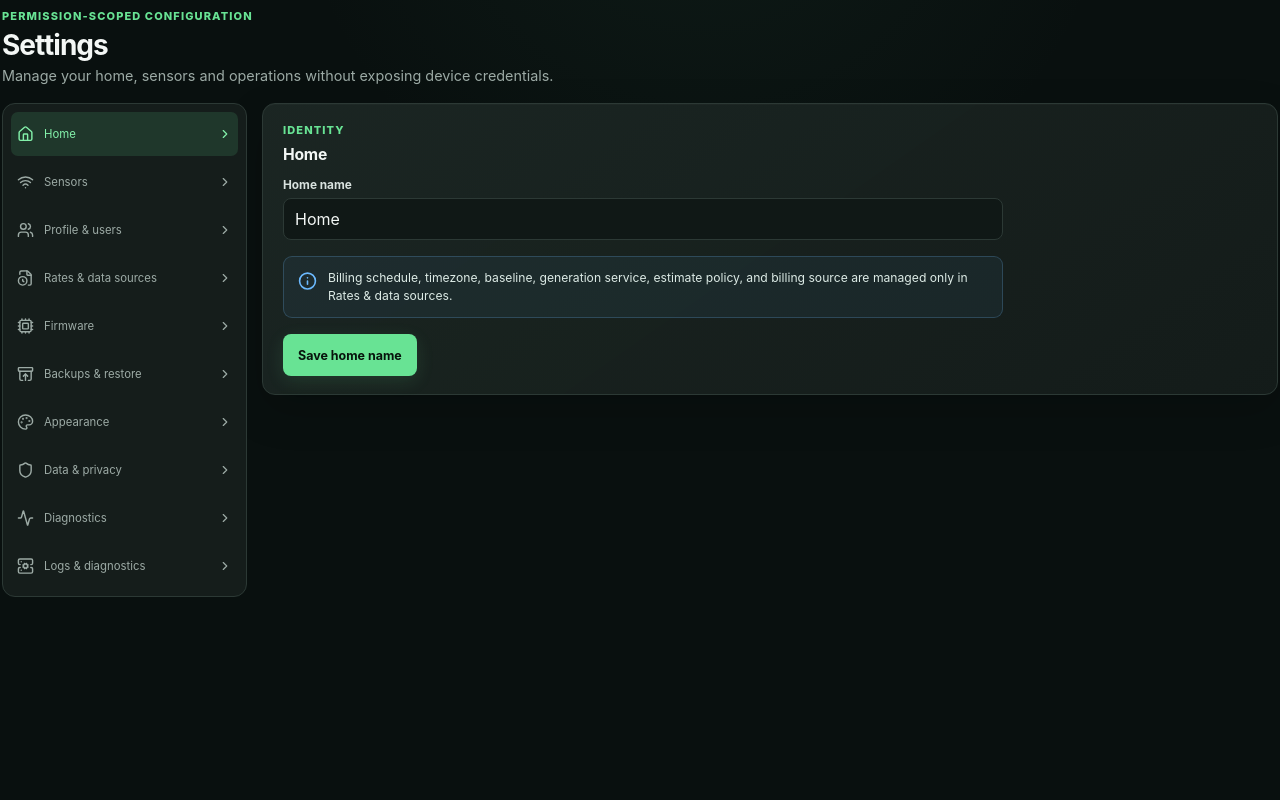
Scenario: Settings › enrolls the first sensor with the only authorized home scope
Click the button "Sensors": coordinates (124, 182) [11, 160, 238, 204]
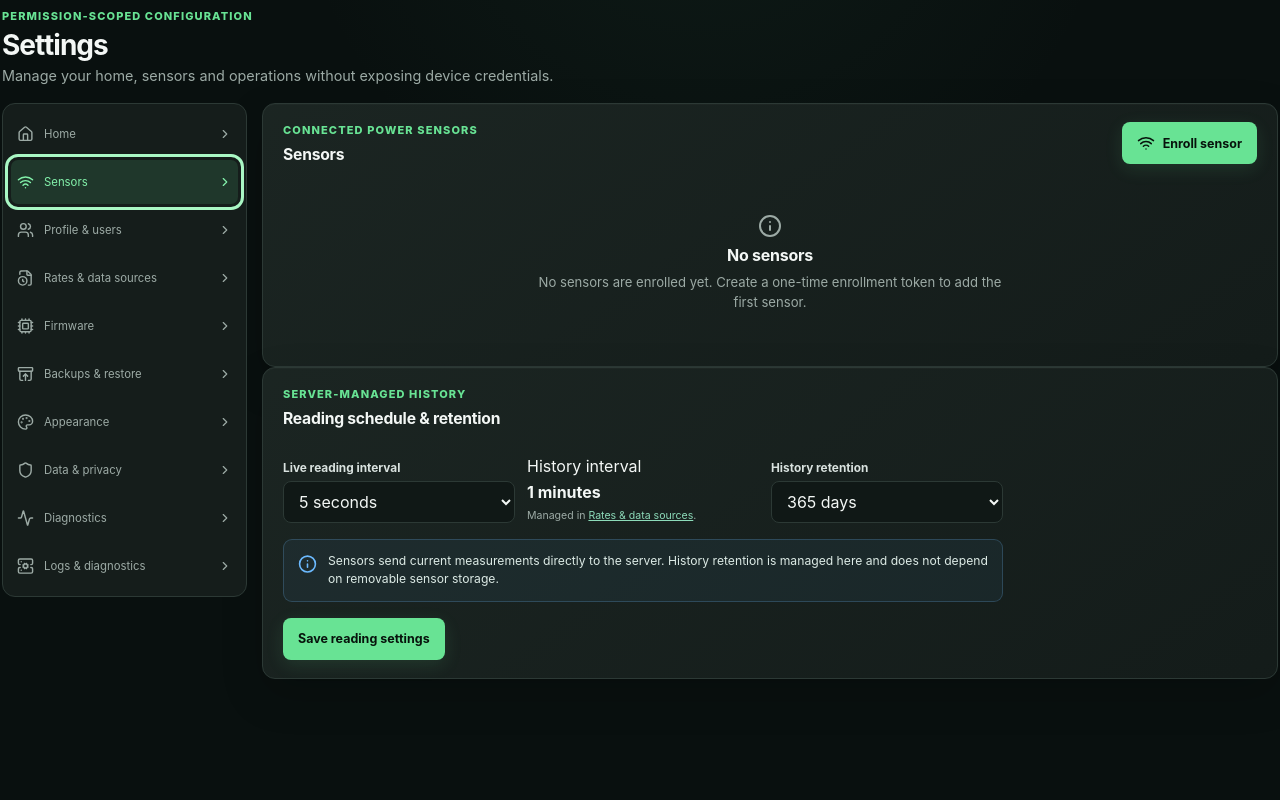
expect the text "No sensors are enrolled yet" is shown: met, box [539, 274, 1001, 310]
Click the button "Enroll sensor": coordinates (1189, 143) [1122, 122, 1257, 164]
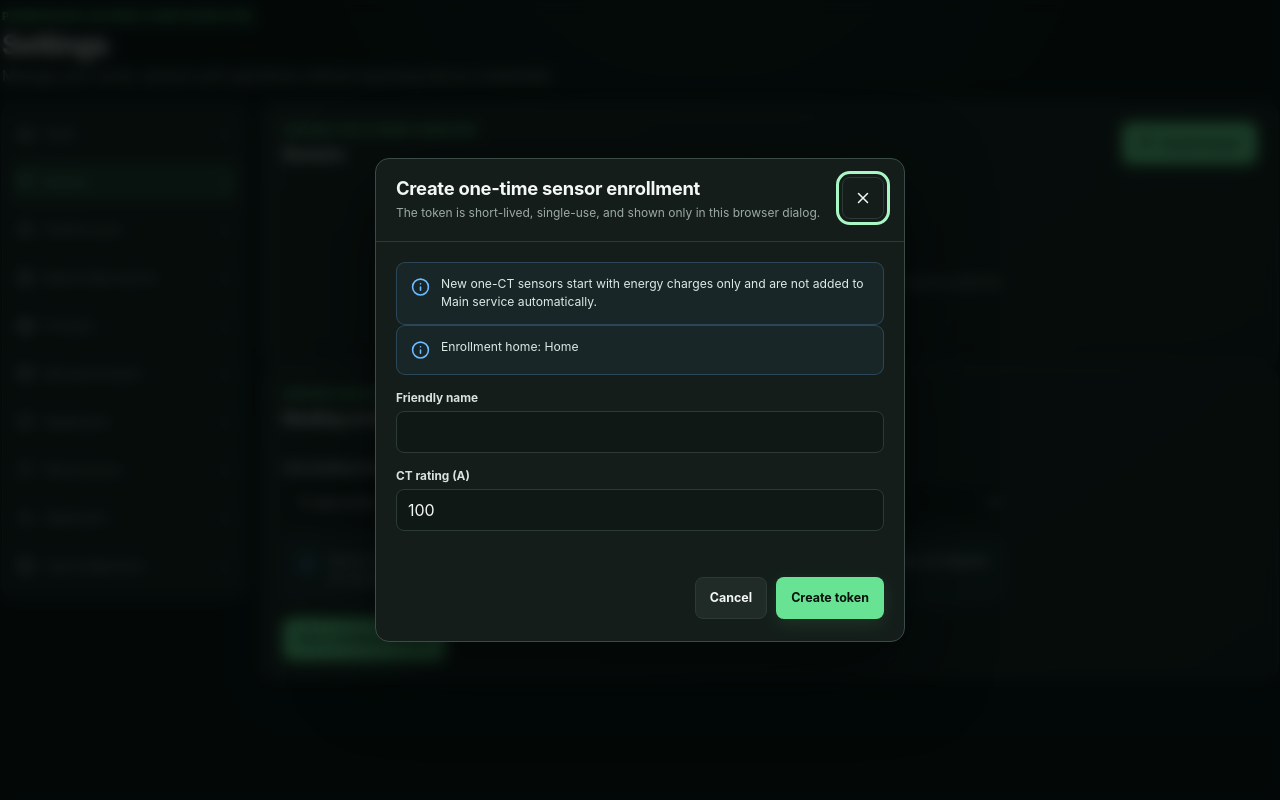
expect the text "Enrollment home: Home" is shown: met, box [441, 338, 579, 356]
In the field labelled "Friendly name": coordinates (640, 432) [396, 410, 884, 452], type "Main panel"
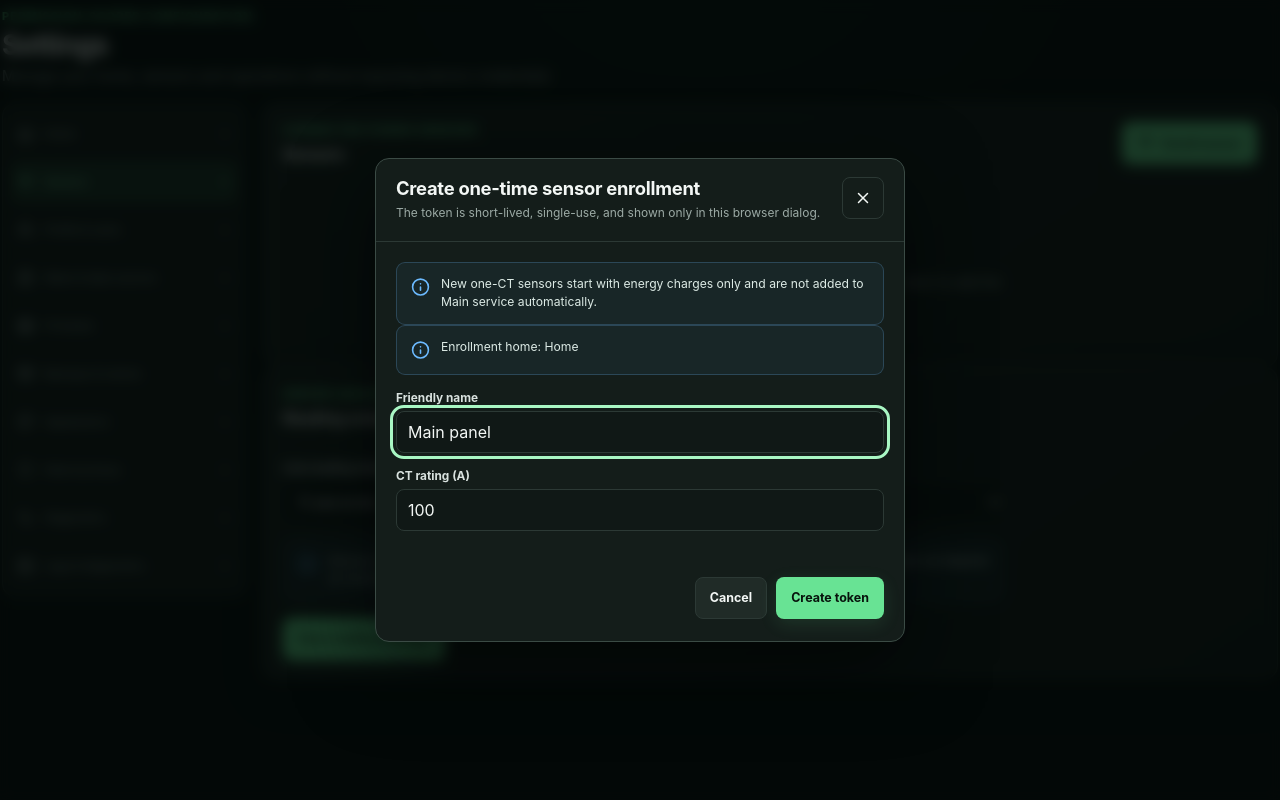
Click the button "Create token": coordinates (830, 598) [776, 576, 884, 618]
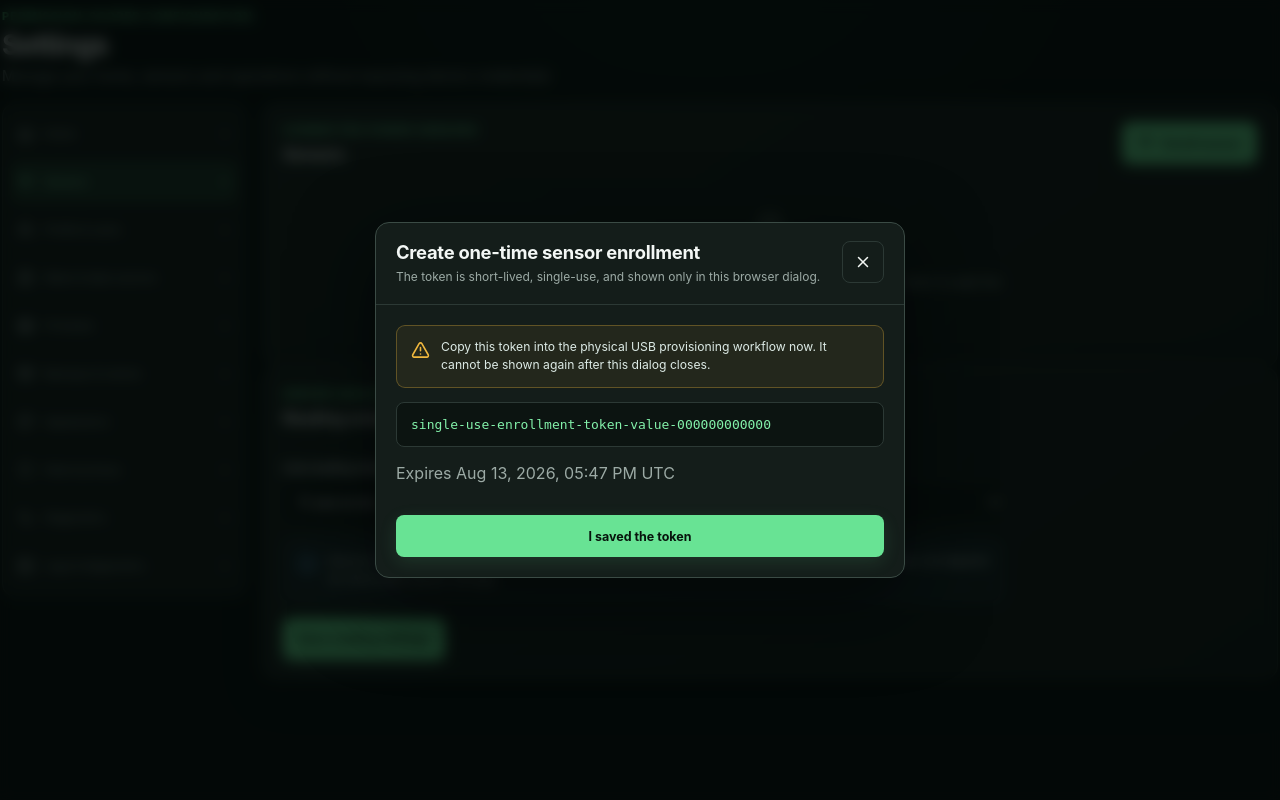
expect the text "single-use-enrollment-token-value-000000000000" is shown: met, box [396, 402, 884, 447]
